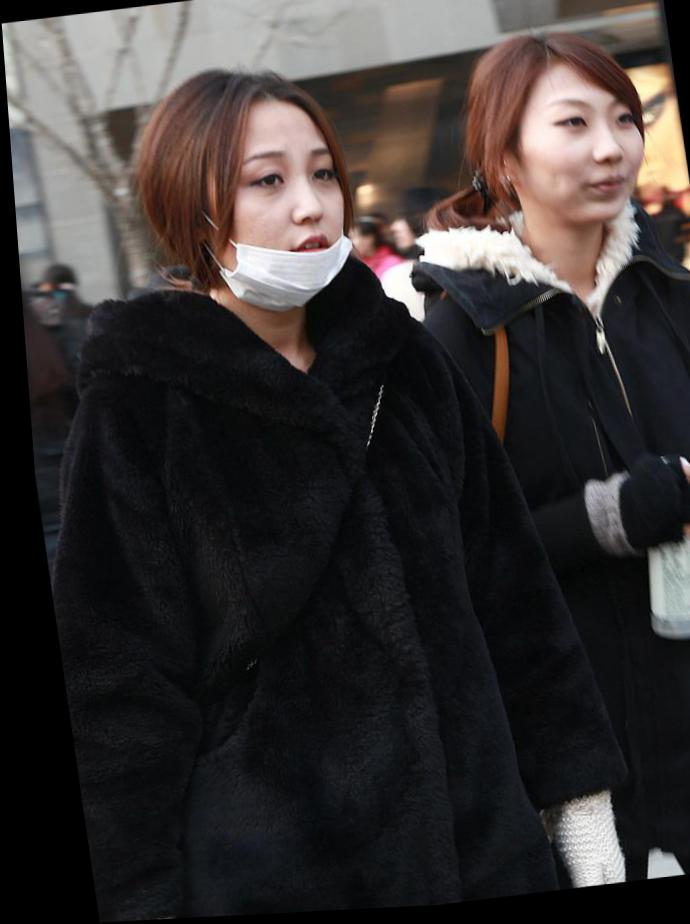NONE: (495, 75, 651, 236)
WRONG: (189, 147, 361, 316)
